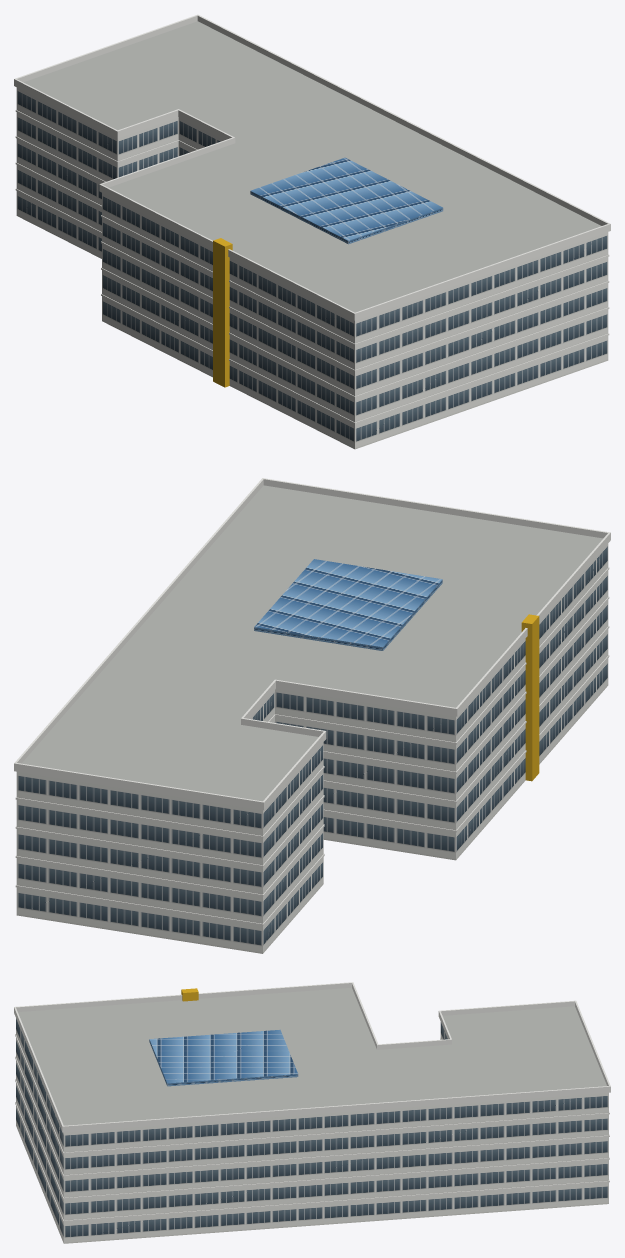
File: changwanglou.glb
3 views of the same model, one above another, from view 1: azimuth 30°, elevation 25°; view 2: azimuth 150°, elevation 25°; view 3: azimuth 270°, elevation 25° (orthographic). The views are drawn at different scales.
Parts seen in each view (by area): view 1: 长望楼; view 2: 长望楼; view 3: 长望楼.
Boxes of the visible parts, left/top/right/bottom form: 长望楼: left=14, top=14, right=610, bottom=449; 长望楼: left=14, top=478, right=610, bottom=953; 长望楼: left=14, top=982, right=610, bottom=1243.
Bounding box in the file's own units: 51.47 × 20.2 × 89.86.
5 materials, 2 textured.
